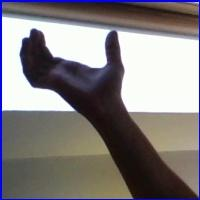space: (13, 23, 135, 108)
